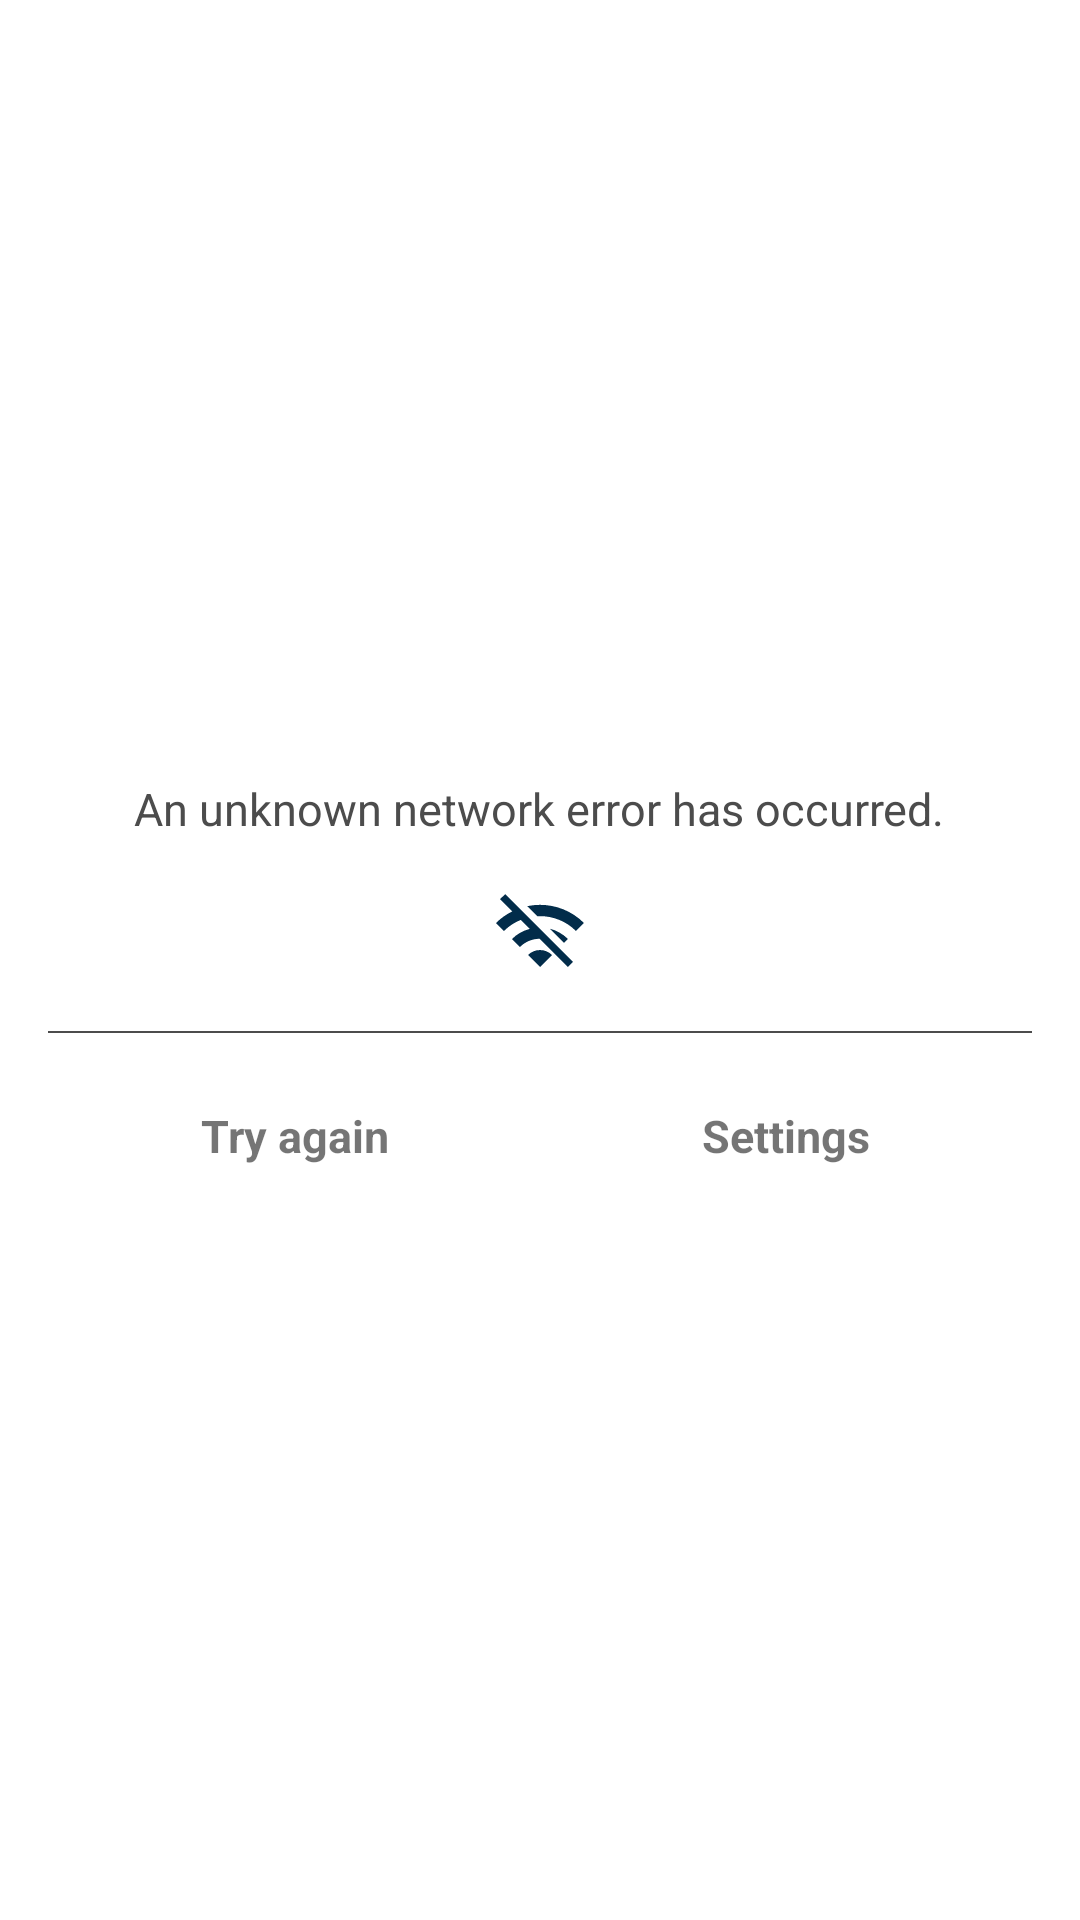

Icon click points for this 1080×1920 phone screenshot, format point (x, y):
no internet: point (540, 930)
